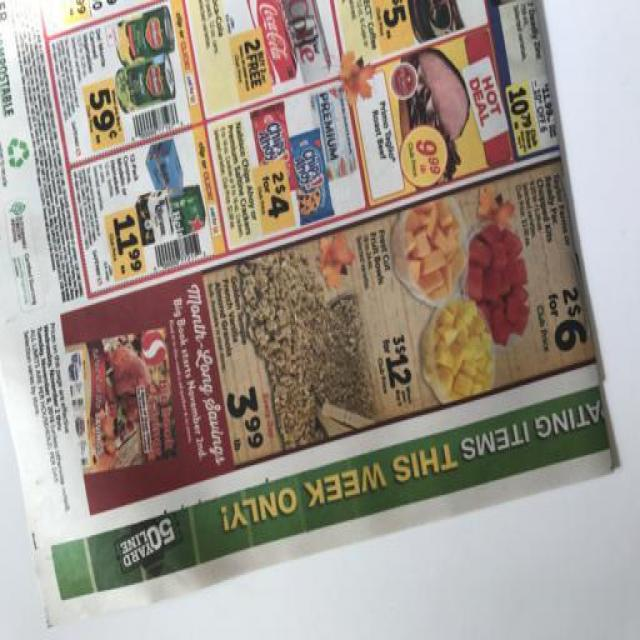paper: (1, 1, 640, 609)
